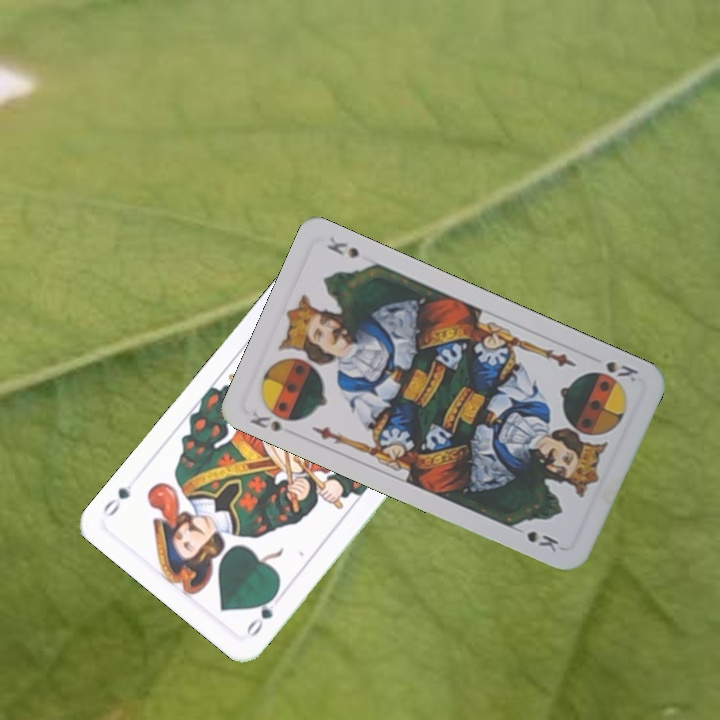GO: (242, 587, 281, 640)
SK: (245, 402, 301, 434), (602, 357, 642, 385)
